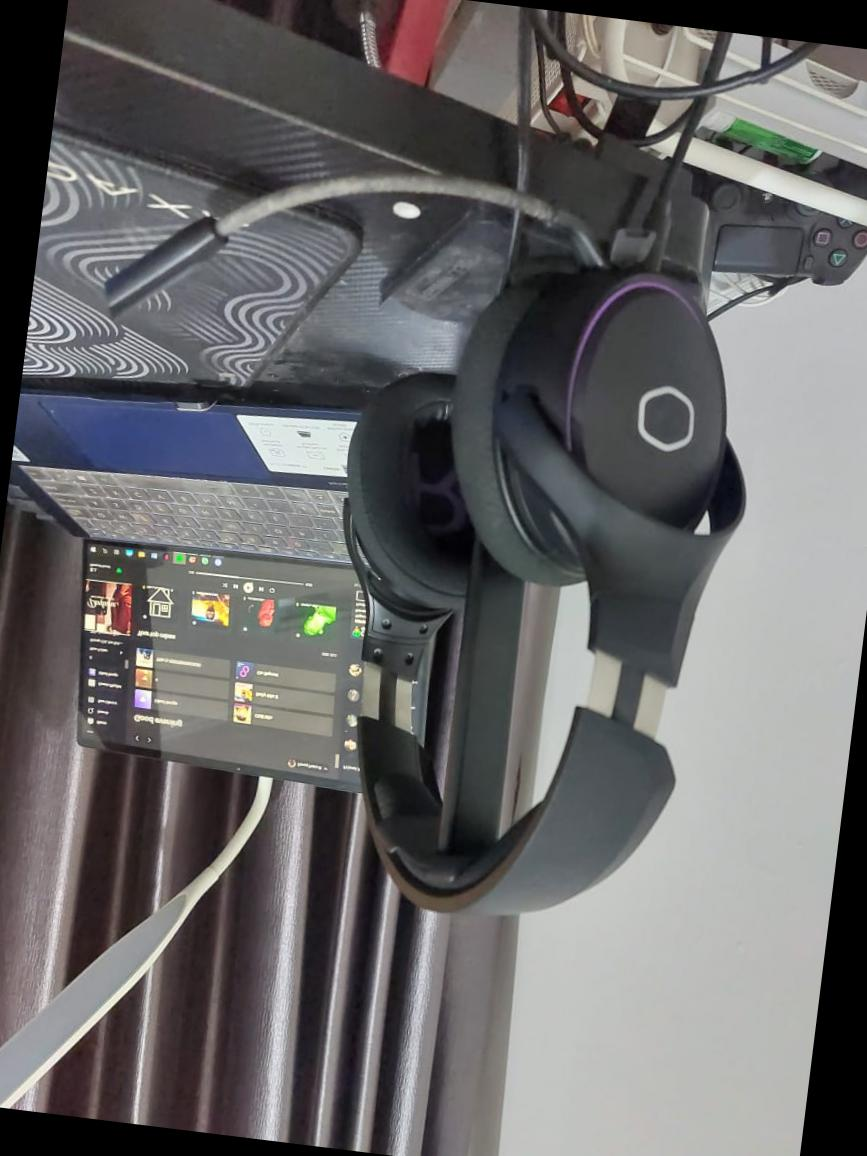Headset: (43, 126, 800, 942)
